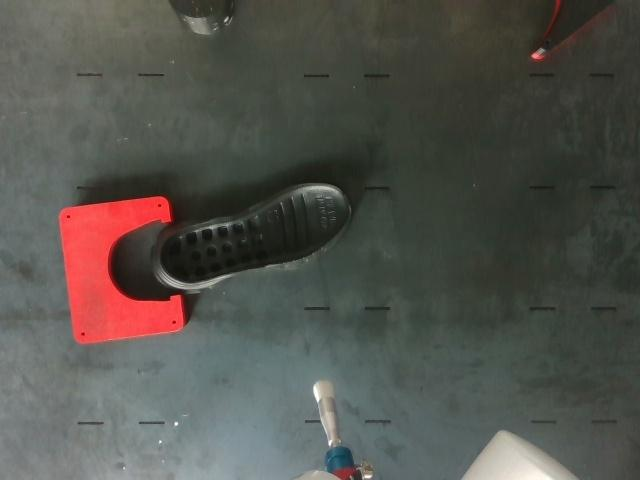shoes: (160, 187, 350, 283)
